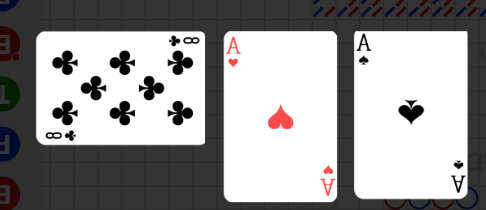8C: (44, 128, 79, 142)
AH: (226, 35, 243, 70)
AS: (449, 156, 466, 194)
